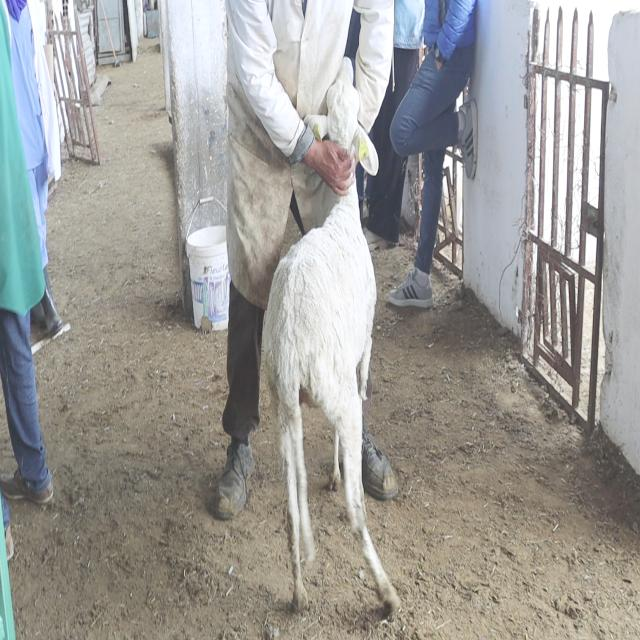Score_1: (263, 57, 400, 611)
